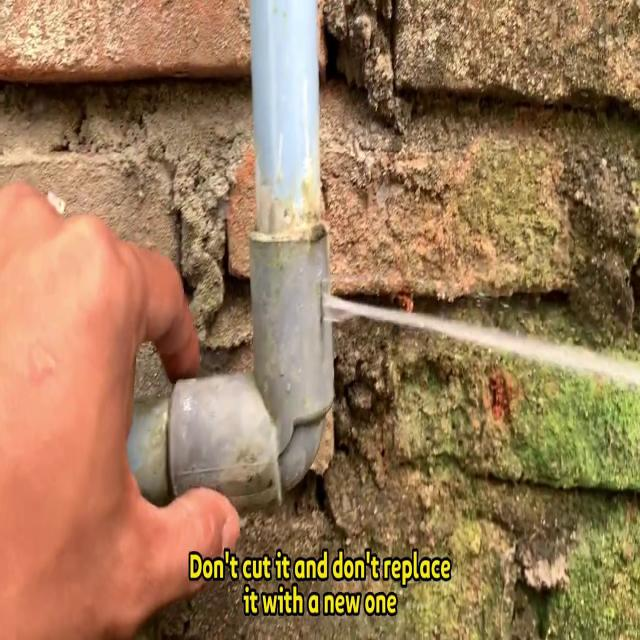leak: (317, 286, 640, 391)
